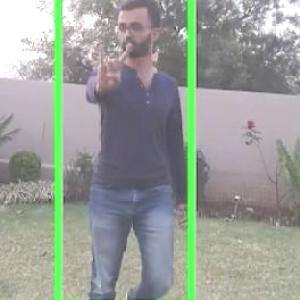takeoff-hand: (85, 38, 134, 93)
